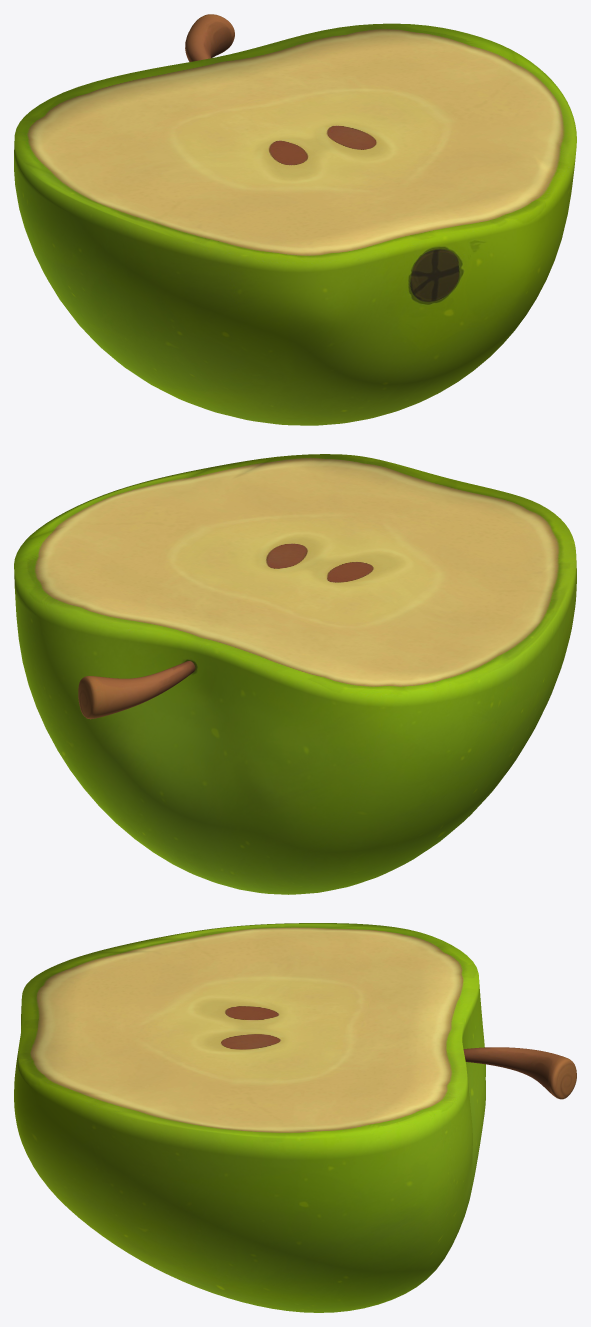
The model's file is apple_half_green_003.glb.
The picture shows the model from 3 angles, top to bottom: view 1: azimuth 30°, elevation 25°; view 2: azimuth 150°, elevation 25°; view 3: azimuth 270°, elevation 25°; orthographic projection. The views are drawn at different scales.
Visible parts, largest first — view 1: APPLE_green_Half.003; view 2: APPLE_green_Half.003; view 3: APPLE_green_Half.003.
Boxes of the visible parts, x1=… form: APPLE_green_Half.003: x1=14, y1=14, x2=576, y2=425; APPLE_green_Half.003: x1=14, y1=454, x2=576, y2=894; APPLE_green_Half.003: x1=14, y1=923, x2=576, y2=1312.
Size of the model in its own units: 0.081 by 0.045 by 0.0871.
Materials: 1 (1 with a texture image).
